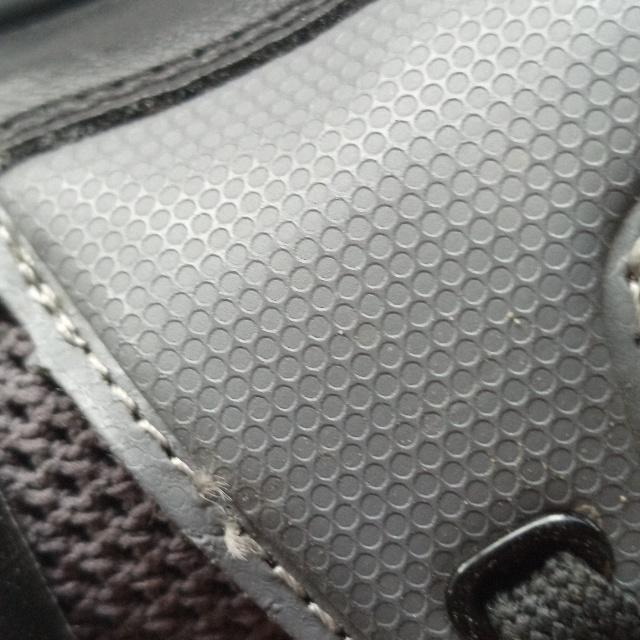broken-error: (196, 464, 266, 560)
